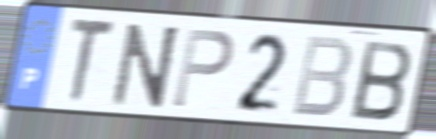2: (236, 31, 289, 117)
B: (288, 33, 354, 121), (348, 38, 414, 124)
N: (109, 21, 183, 110)
P: (169, 25, 236, 111)
T: (67, 16, 118, 107)
